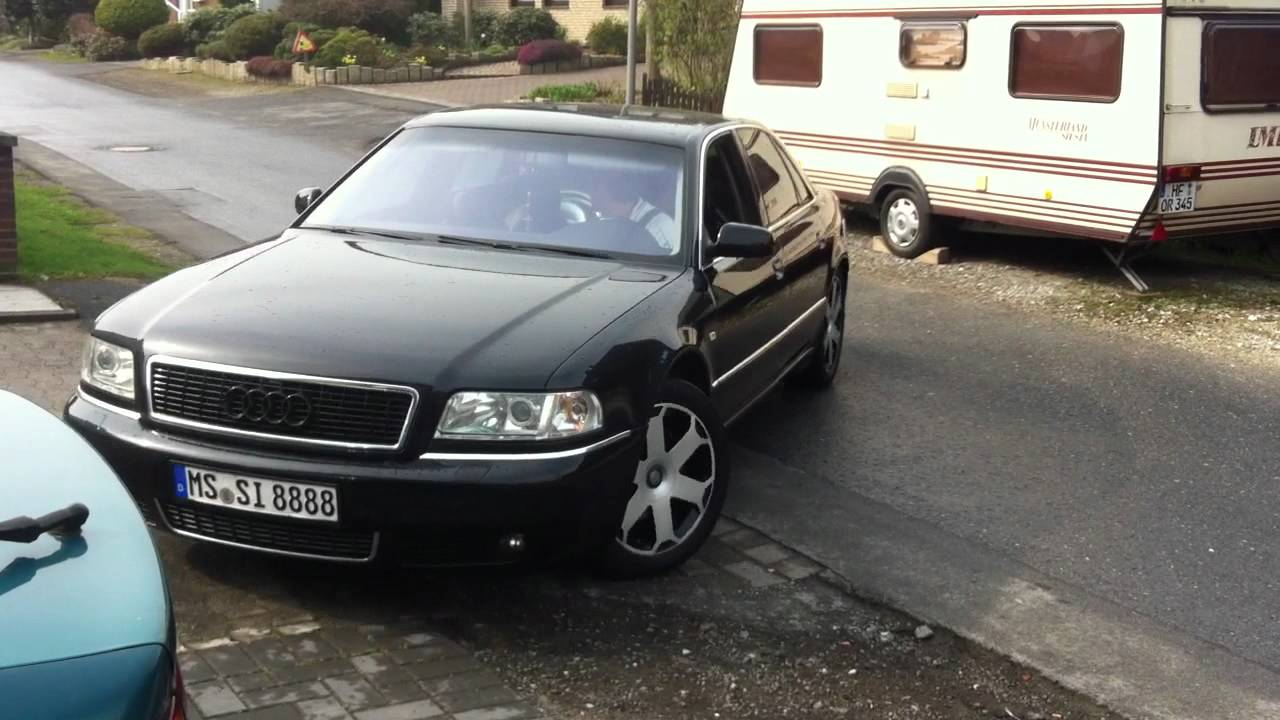plate: (169, 460, 341, 525), (1155, 181, 1197, 216)
